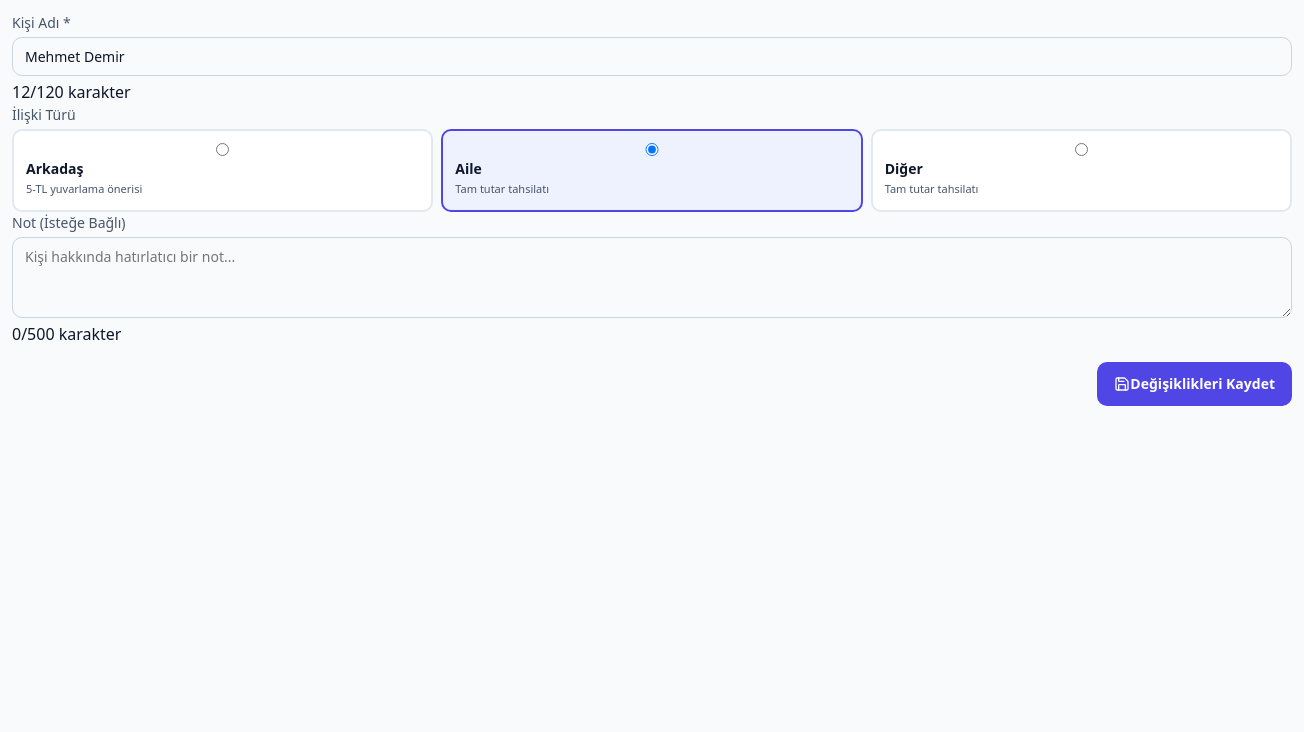
F6 People CRUD — Identity, OCC, Archive & Balance Distinction › submits person edit with OCC expectedRevisionNo and stops on PEOPLE_REVISION_CONFLICT
Replace the text in the field showing "Mehmet Demir" with "Mehmet Demir Güncel" at x=652, y=56, box [12,37,1292,76]
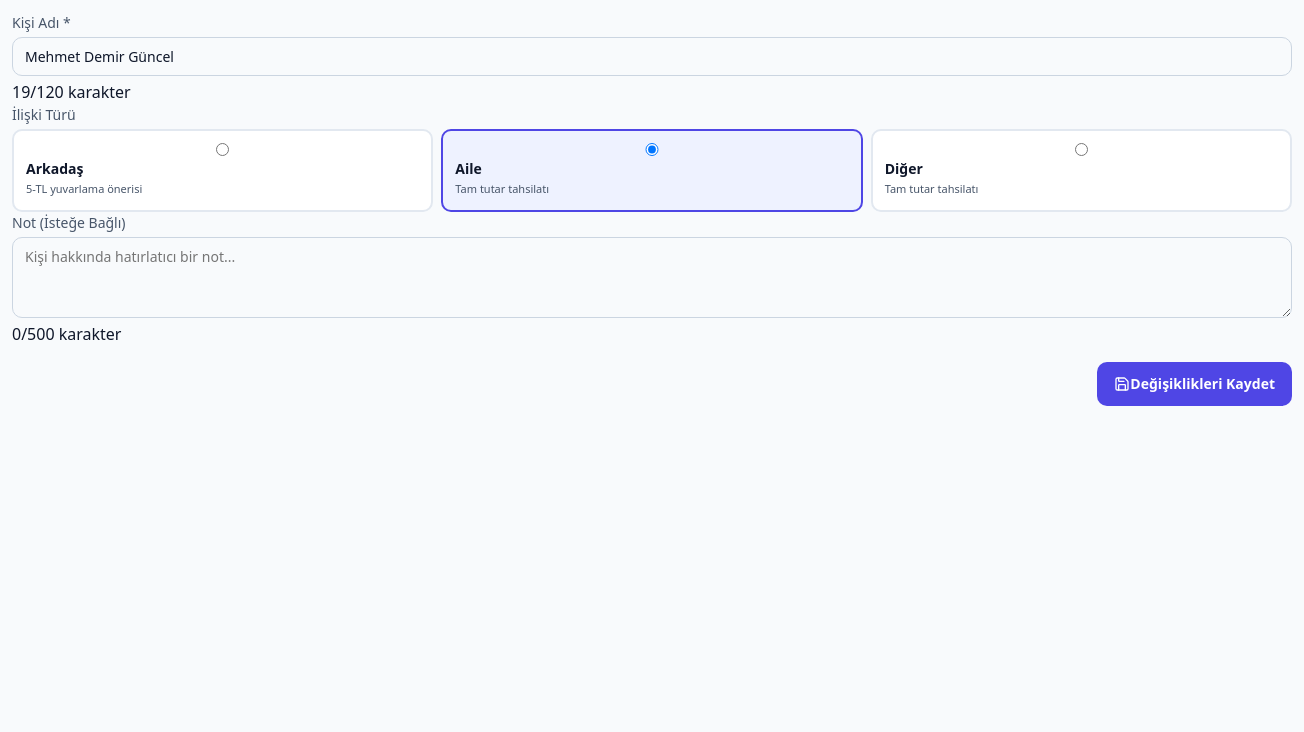
Click the button with test id "person-submit-btn".
click(1195, 384)  # box [1097,362,1292,406]
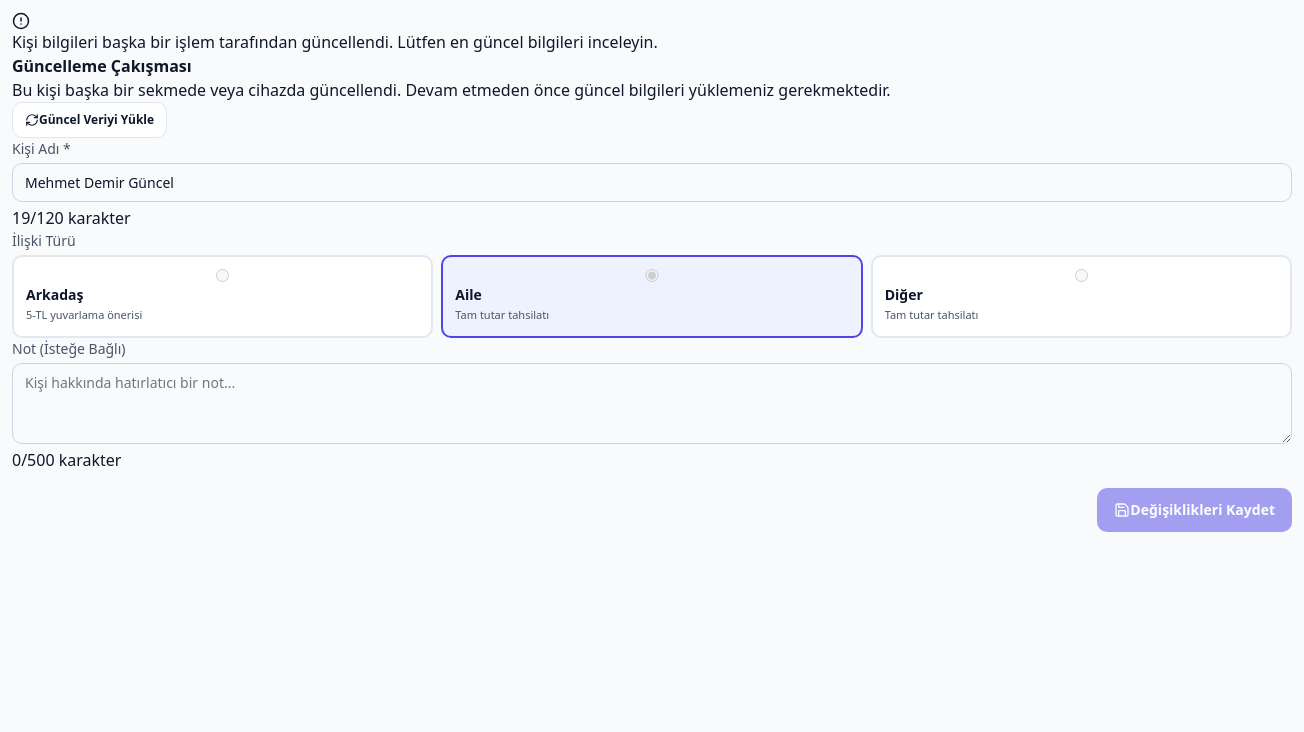
Now the element with test id "person-conflict-box" is shown, box [12,55,891,138]
Now the button with test id "reload-conflict-btn" is shown, box [12,102,167,138]
